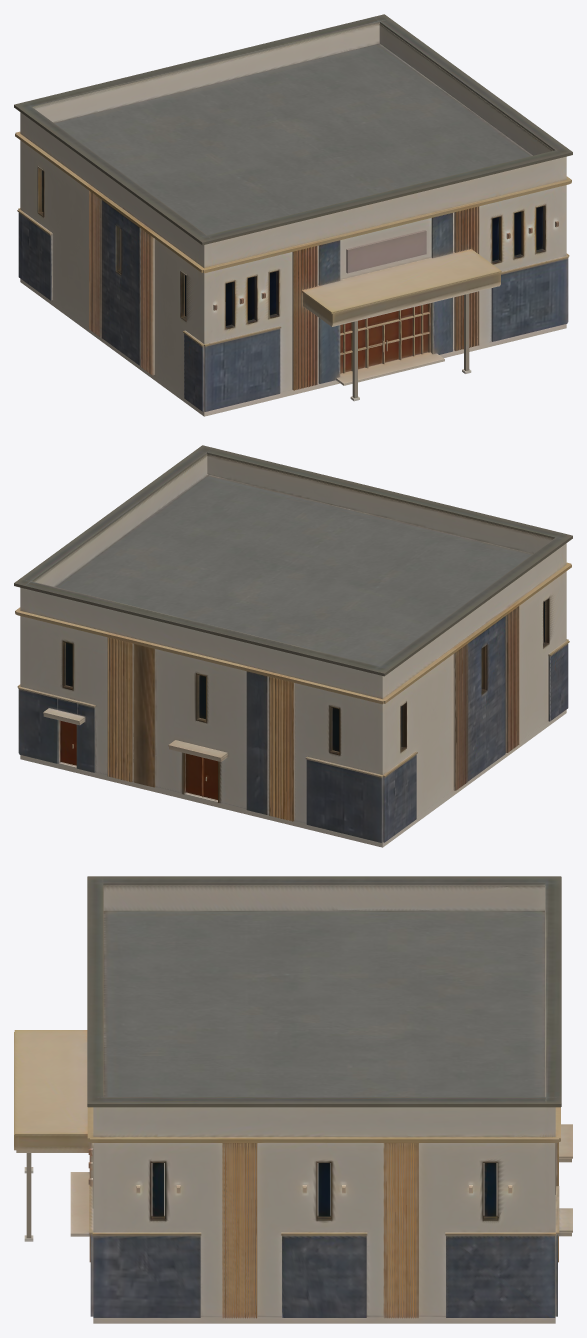
Rendered from club_house.glb.
3 renders of one model, top to bottom at view 1: azimuth 30°, elevation 25°; view 2: azimuth 150°, elevation 25°; view 3: azimuth 270°, elevation 25°, orthographic. The views are drawn at different scales.
Visible parts, largest first — view 1: building; view 2: building; view 3: building.
Boxes of the visible parts, x1,y1,x2,y2 form: building: (14,14,572,416); building: (14,445,572,847); building: (14,876,572,1323).
Bounding box in the file's own units: 1.83 × 0.8334 × 1.9.
1 material, 1 textured.
